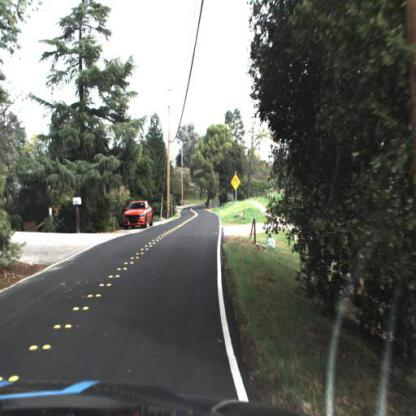car: (122, 198, 156, 232)
